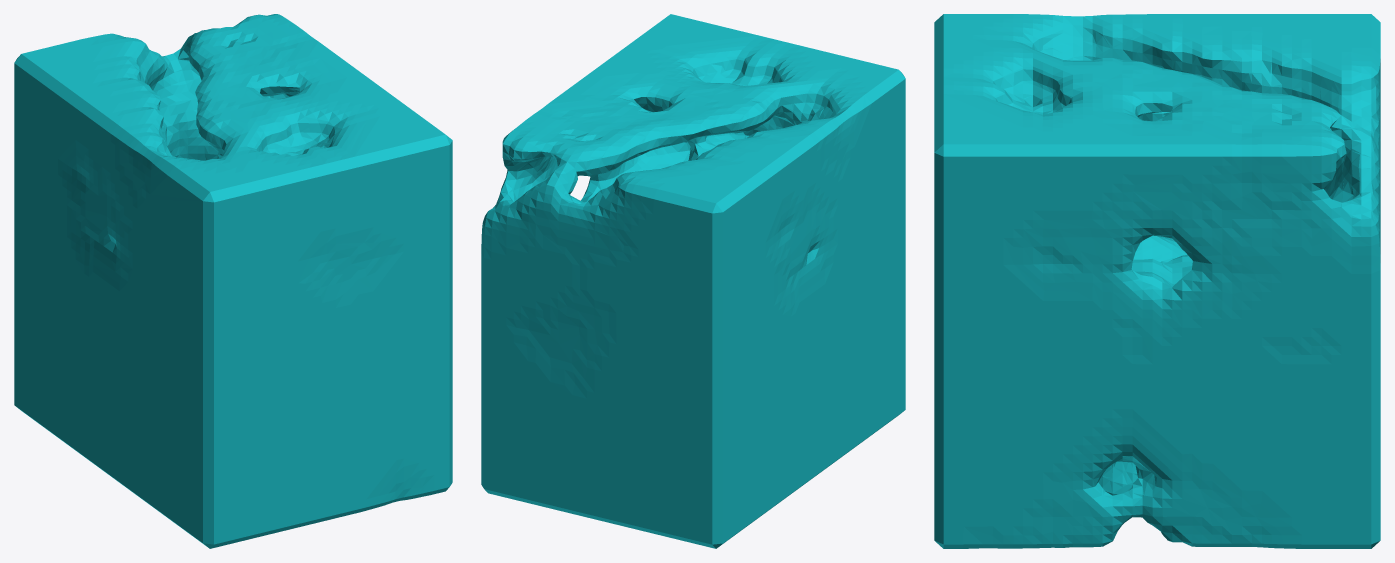
3 renders of one model, left to right at view 1: azimuth 30°, elevation 25°; view 2: azimuth 150°, elevation 25°; view 3: azimuth 270°, elevation 25°, orthographic. The views are drawn at different scales.
Visible parts, largest first — view 1: Liquid_Domain; view 2: Liquid_Domain; view 3: Liquid_Domain.
Boxes of the visible parts, x1=… form: Liquid_Domain: x1=14, y1=14, x2=452, y2=548; Liquid_Domain: x1=481, y1=14, x2=905, y2=548; Liquid_Domain: x1=934, y1=14, x2=1380, y2=548.
Size of the model in its own units: 79.09 by 108 by 108.
